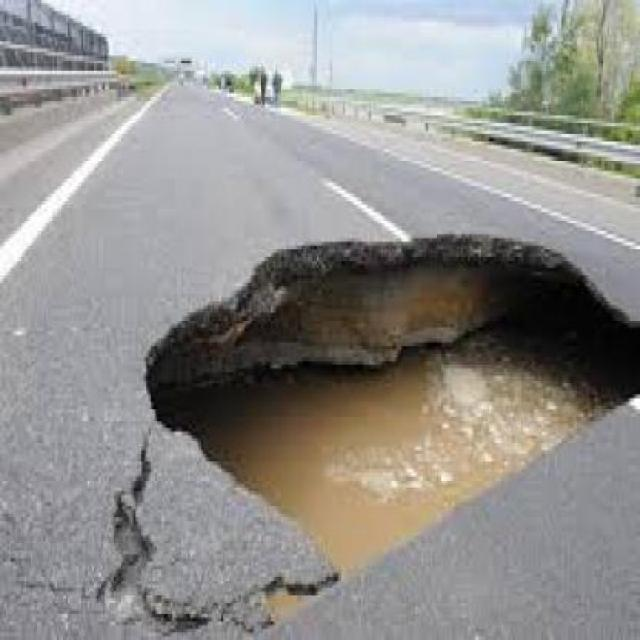pothole: (138, 223, 638, 574)
